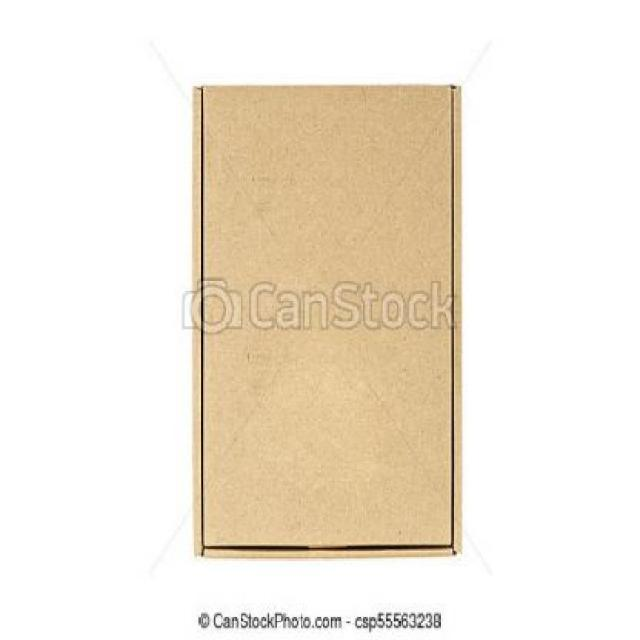box: (196, 84, 458, 552)
